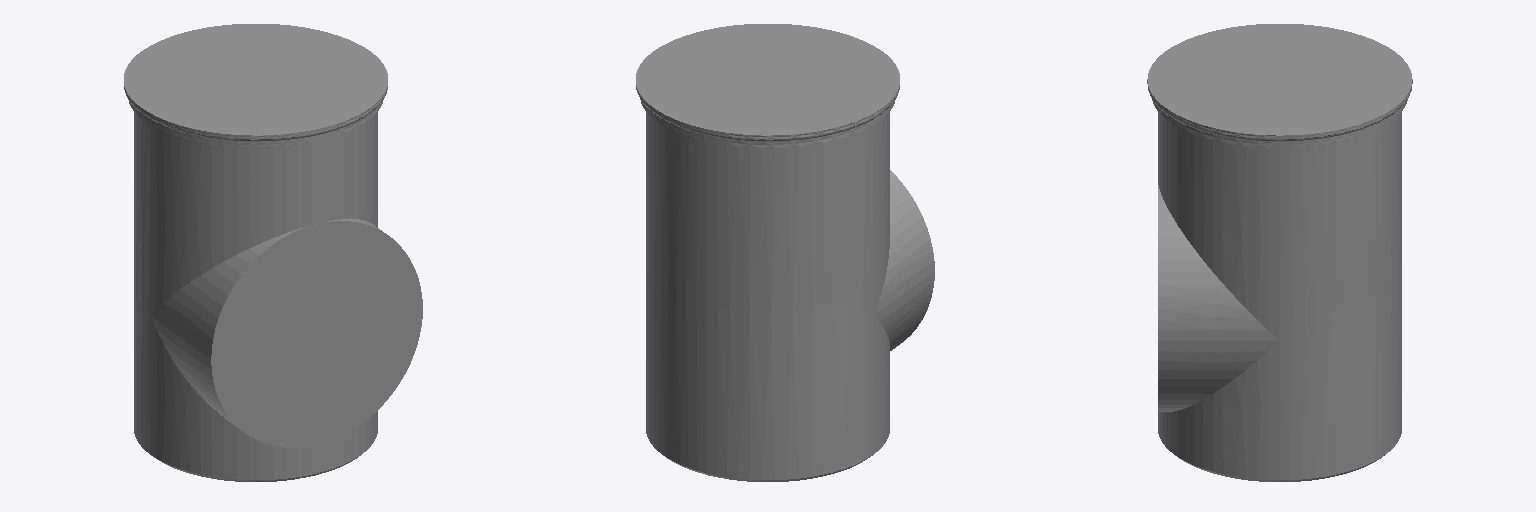
The model's file is pieza2.obj.
3 views of the same model, side by side, from view 1: azimuth 30°, elevation 25°; view 2: azimuth 150°, elevation 25°; view 3: azimuth 270°, elevation 25° (orthographic).
Visible parts, largest first — view 1: Body1_Body1.001; view 2: Body1_Body1.001; view 3: Body1_Body1.001.
Boxes of the visible parts, x1,y1,x2,y2 form: Body1_Body1.001: [124, 24, 422, 481]; Body1_Body1.001: [636, 24, 934, 481]; Body1_Body1.001: [1147, 24, 1412, 481].
Size of the model in its own units: 0.1626 by 0.2388 by 0.1626.